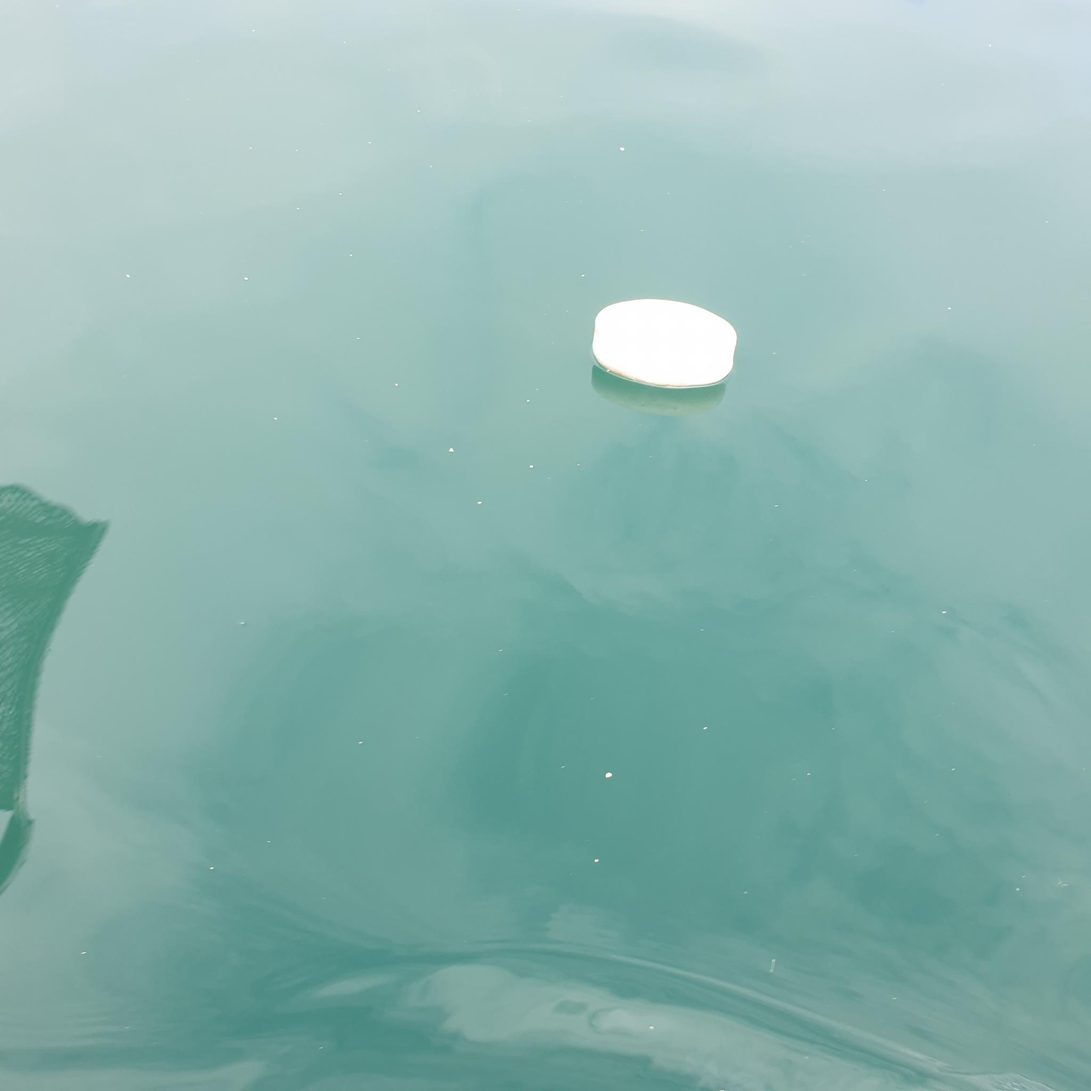sampah_terapung: (593, 299, 738, 388)
